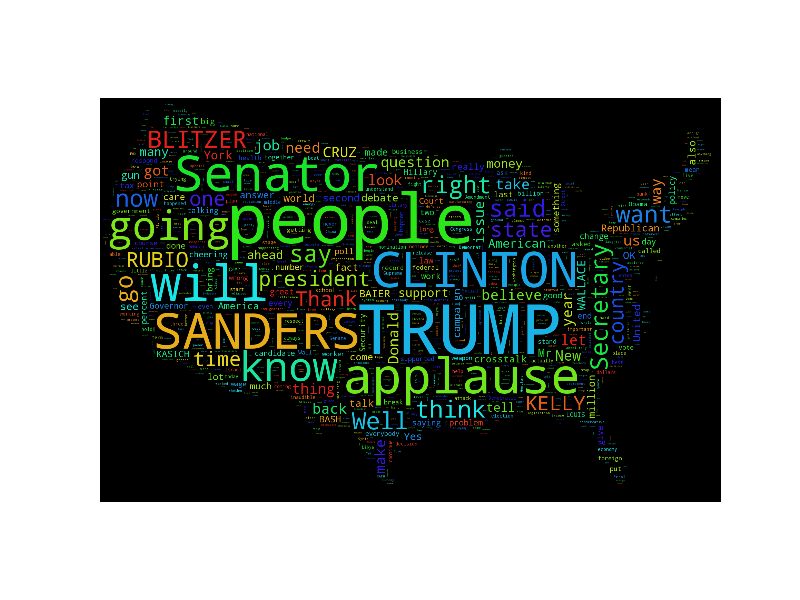

Layout of this report page (visuals, bound fields, positions):
{"tool":"tableau","page":{"name":"Dashboard 1","canvas":[1000,800],"ordinal":0},"visuals":[{"type":"worksheet","title":"Political Word Spectrum","mark":"Automatic","rows":["News Source"],"cols":["Normalized Score"],"box":[0,0,840,800]},{"type":"legend","title":"Political Word Spectrum","param":"[excel-direct.0gq965a1z0qfvq11uislu0az1vmf].[io:Blue:nk]","box":[840,0,160,67]}]}

Visuals, with their boxes on the page's 1000x800 design canvas (x1, y1, x2, y2). These are canvas units, not pixel positions in the 800x600 screenshot, which may show the page scaled, cropped or inside an application window:
"Political Word Spectrum" worksheet: <box>0,0,840,800</box>
"Political Word Spectrum" legend: <box>840,0,1000,67</box>
